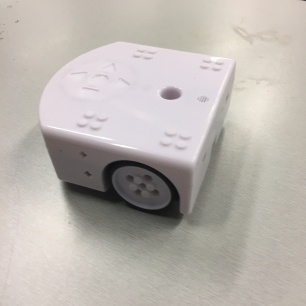thymio: (36, 36, 243, 222)
